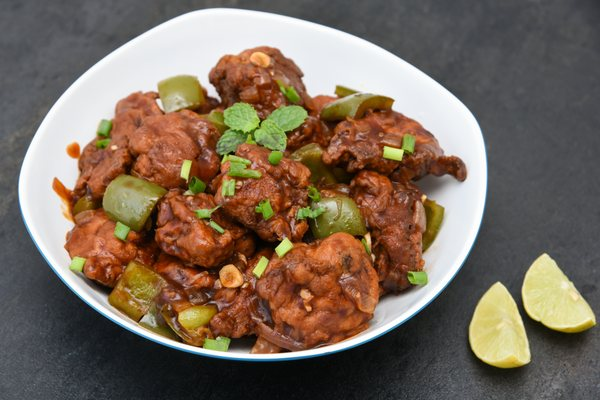sushi: (14, 13, 489, 364)
taco: (521, 252, 597, 334), (468, 280, 532, 369)
